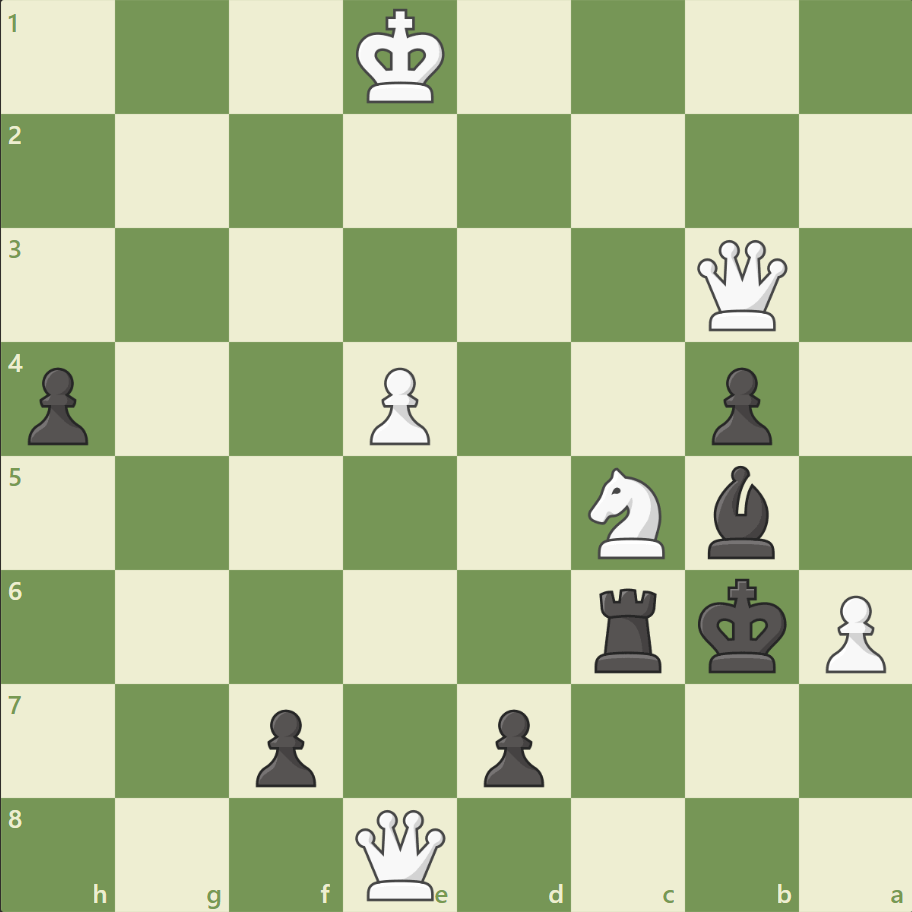K: (351, 4, 451, 112)
N: (579, 461, 676, 564)
P: (815, 586, 889, 677), (361, 359, 435, 450)
Q: (351, 804, 450, 903), (691, 236, 790, 335)
b: (698, 460, 782, 563)
k: (692, 571, 792, 679)
p: (474, 700, 549, 791), (247, 700, 322, 791), (701, 359, 776, 450), (20, 359, 95, 450)
r: (587, 579, 670, 676)
